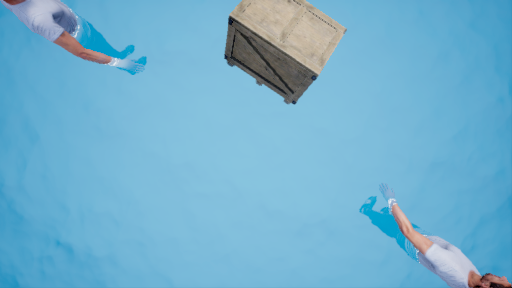person: (348, 185, 507, 288), (6, 1, 151, 83)
